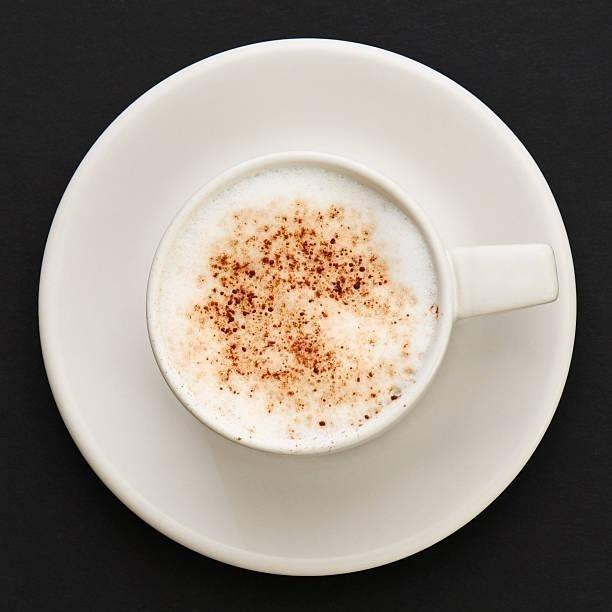cup-handle: (141, 148, 559, 460)
